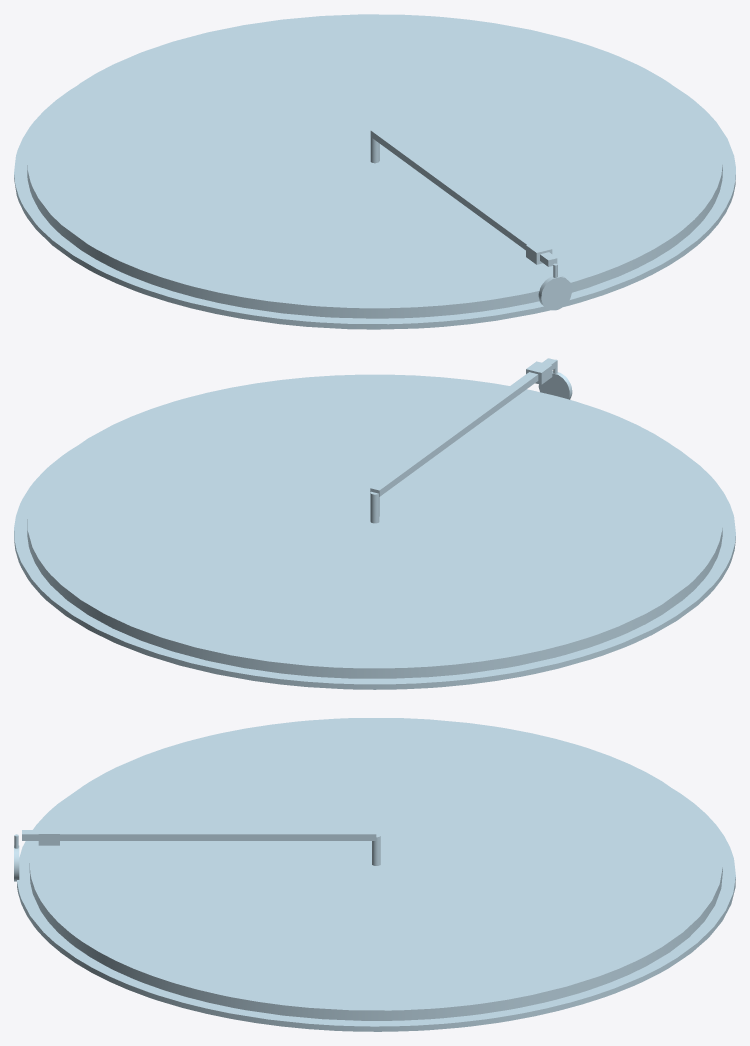
Rendered from agrokruh_bed_lod1.glb.
The picture shows the model from 3 angles, top to bottom: view 1: azimuth 30°, elevation 25°; view 2: azimuth 150°, elevation 25°; view 3: azimuth 270°, elevation 25°; orthographic projection.
Parts seen in each view (by area): view 1: Agrokruh crop pad, Agrokruh soil bed, Agrokruh arm (×2); view 2: Agrokruh crop pad, Agrokruh soil bed, Agrokruh arm (×2); view 3: Agrokruh crop pad, Agrokruh soil bed, Agrokruh arm.
Part boxes in pixels (x1,y1,x2,y2): Agrokruh crop pad: (27,14,722,318); Agrokruh soil bed: (14,86,735,329); Agrokruh arm (×2): (370,128,572,310); Agrokruh crop pad: (27,374,722,678); Agrokruh soil bed: (14,447,735,689); Agrokruh arm (×2): (370,358,572,496); Agrokruh crop pad: (29,718,722,1020); Agrokruh soil bed: (17,789,735,1031); Agrokruh arm: (22,830,376,840).
Bounding box in the file's own units: 21.98 × 1.68 × 22.08.
